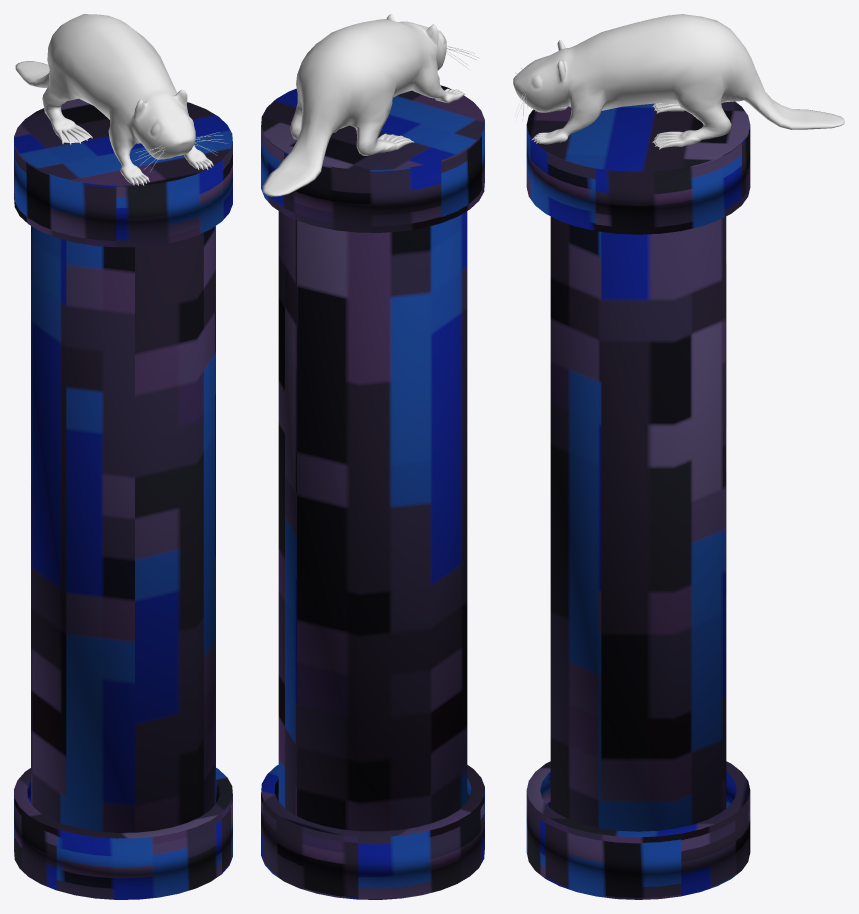
File: fence_divider_wonjun (1).fbx
The picture shows the model from 3 angles, left to right: view 1: azimuth 30°, elevation 25°; view 2: azimuth 150°, elevation 25°; view 3: azimuth 270°, elevation 25°; orthographic projection. The views are drawn at different scales.
Visible parts, largest first — view 1: Pole, Top Piece, Beaver, Bot Piece; view 2: Pole, Top Piece, Beaver, Bot Piece; view 3: Pole, Top Piece, Beaver, Bot Piece.
Part boxes in pixels (x1,y1,x2,y2): Pole: (31,226,215,832); Top Piece: (14,98,232,247); Beaver: (15,14,228,185); Bot Piece: (14,768,232,899); Pole: (278,211,467,831); Top Piece: (261,85,484,232); Beaver: (262,14,479,196); Bot Piece: (261,765,484,899); Pole: (550,216,726,831); Top Piece: (526,101,750,234); Beaver: (513,14,844,149); Bot Piece: (526,761,750,899).
Size of the model in its own units: 95.82 by 394 by 142.
Materials: 2 (1 with a texture image).
